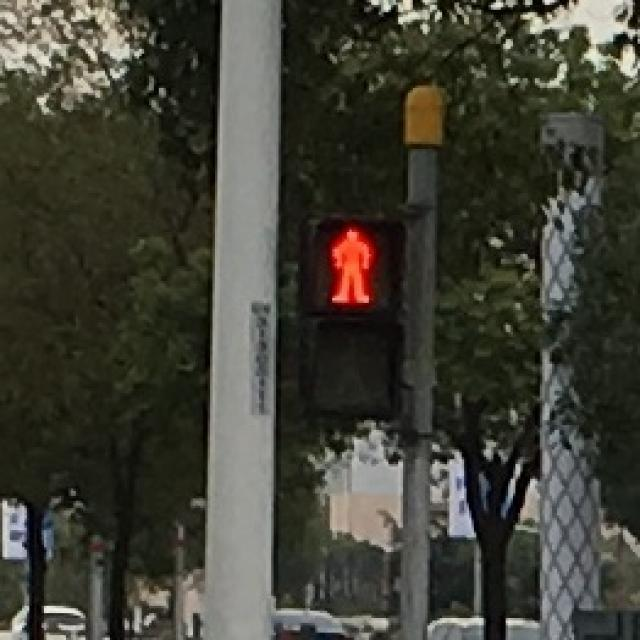red-crossing: (310, 217, 390, 308)
